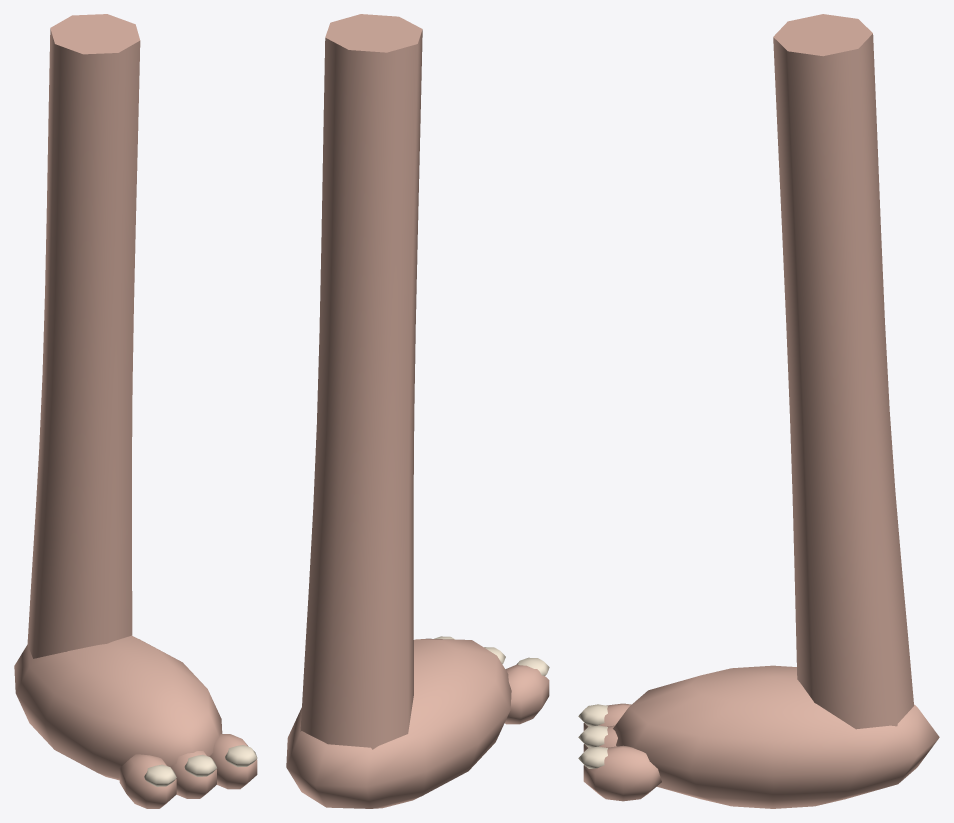
File: lamppost_foot.obj
The picture shows the model from 3 angles, left to right: view 1: azimuth 30°, elevation 25°; view 2: azimuth 150°, elevation 25°; view 3: azimuth 270°, elevation 25°; orthographic projection. The views are drawn at different scales.
Visible parts, largest first — view 1: part0, part1, part2, part6, part4, part3, part7, part5; view 2: part0, part1, part2; view 3: part0, part1, part6.
Boxes of the visible parts, bbox=[...] form: part0: bbox=[27, 14, 140, 658]; part1: bbox=[14, 635, 222, 780]; part2: bbox=[119, 754, 176, 808]; part6: bbox=[210, 734, 257, 789]; part4: bbox=[170, 751, 216, 798]; part3: bbox=[144, 764, 176, 786]; part7: bbox=[225, 745, 257, 767]; part5: bbox=[184, 754, 216, 776]; part0: bbox=[300, 14, 422, 749]; part1: bbox=[286, 638, 511, 808]; part2: bbox=[505, 664, 549, 724]; part0: bbox=[773, 14, 913, 729]; part1: bbox=[613, 665, 939, 808]; part6: bbox=[583, 745, 661, 801].
Bounding box in the file's own units: 0.11 × 0.5062 × 0.217.
